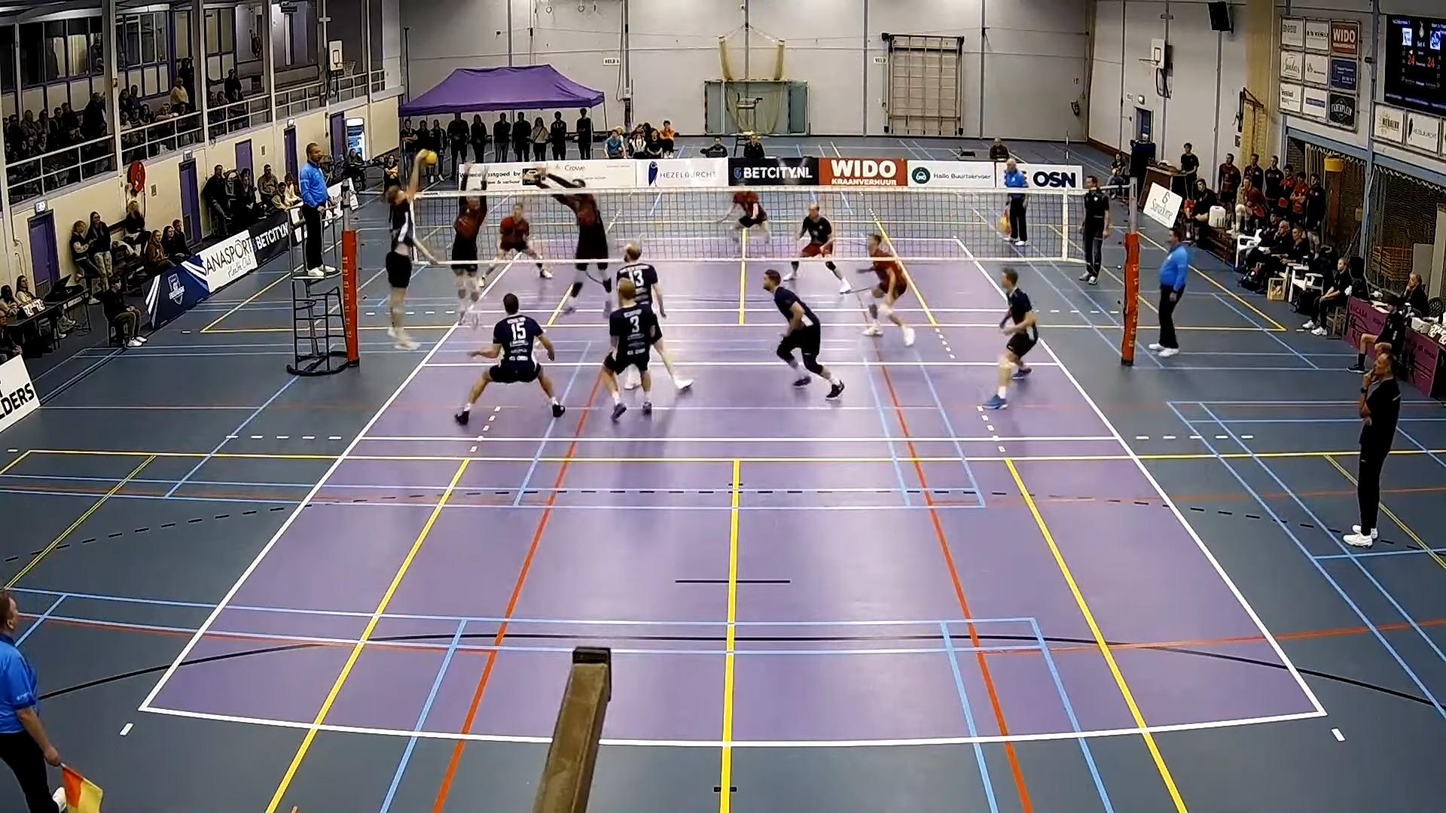attacco: (377, 178, 446, 354)
muro: (520, 163, 616, 316), (439, 159, 495, 339)
